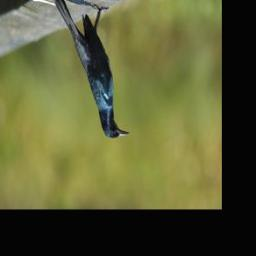Crow: (52, 0, 129, 141)
